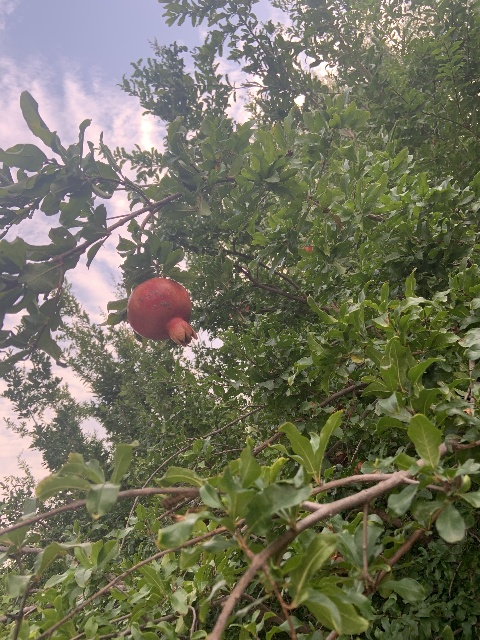ripe: (126, 277, 197, 346)
